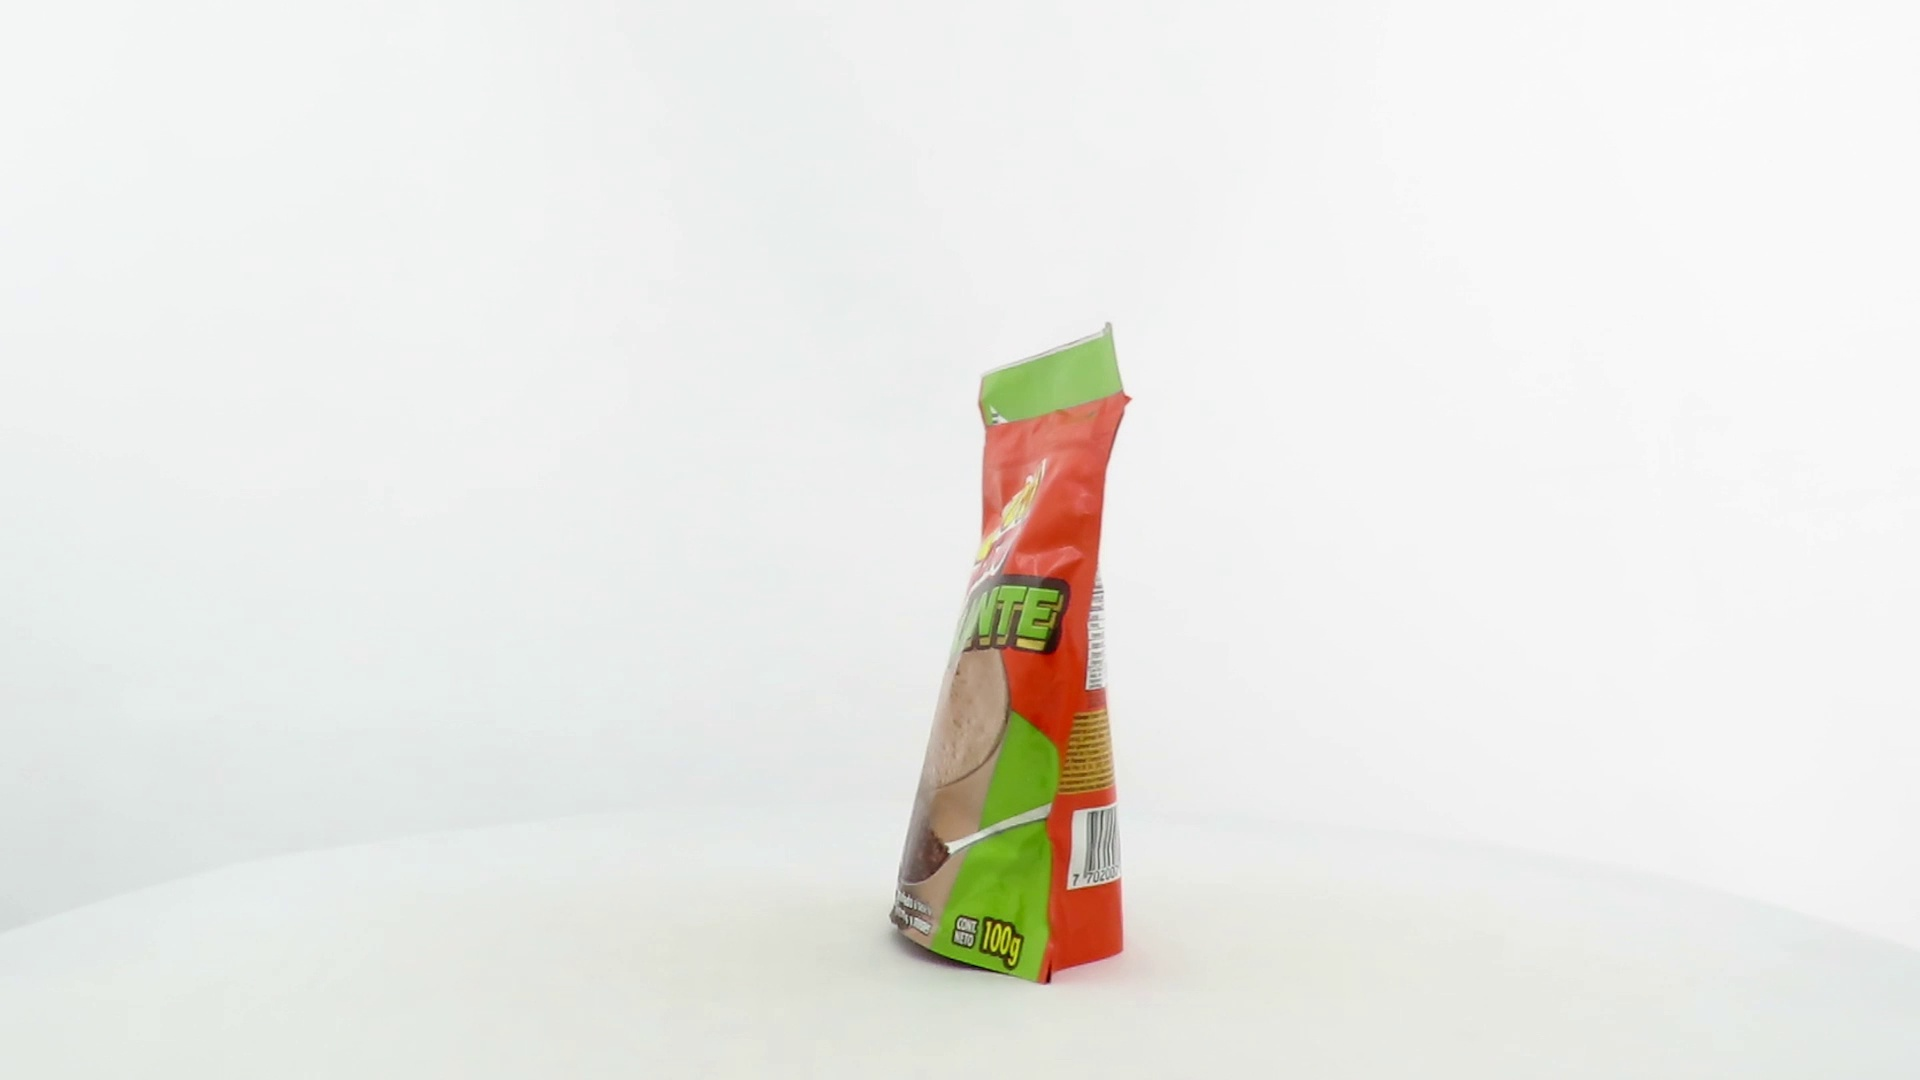COL0170102DYP10000: (884, 316, 1138, 992)
